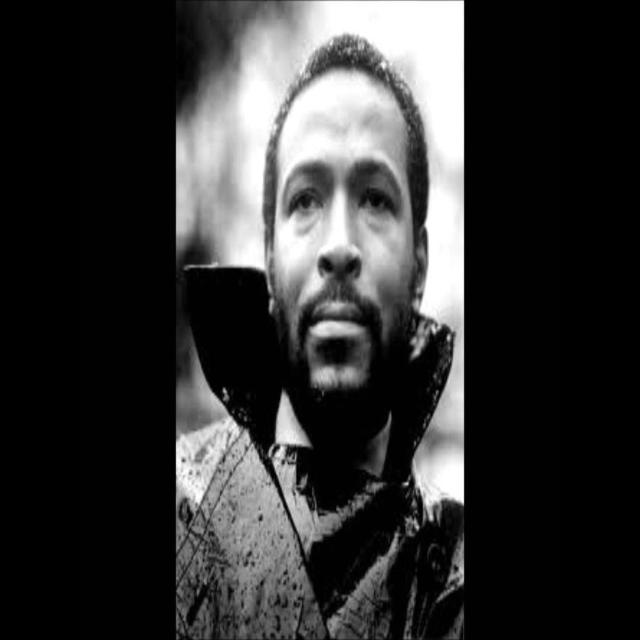mobile_phonerotation: (176, 31, 465, 636)
